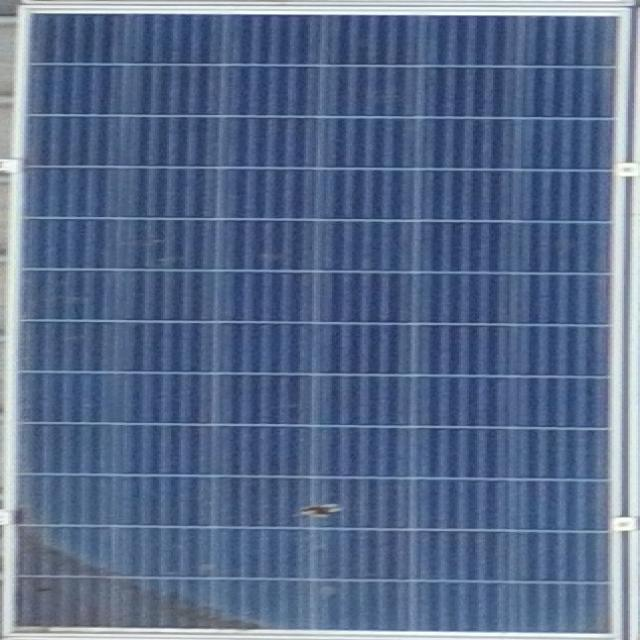Dust: (3, 512, 264, 632)
bird-droppings: (300, 498, 345, 526)
